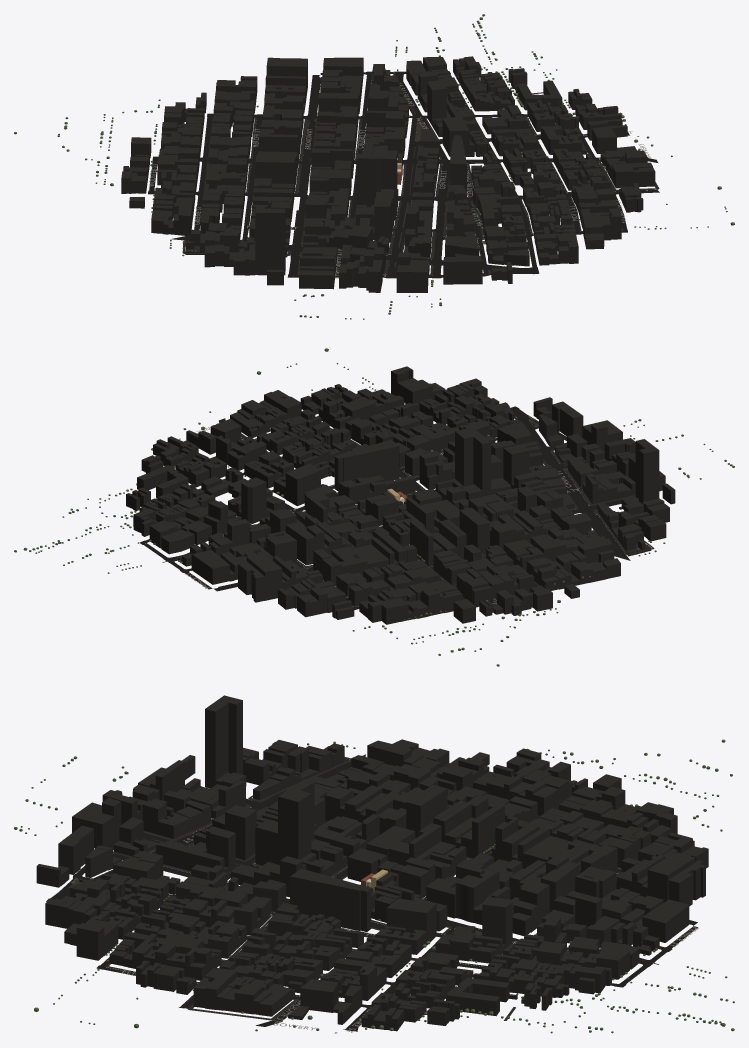
The model's file is lafayette_178.glb.
The picture shows the model from 3 angles, top to bottom: view 1: azimuth 30°, elevation 25°; view 2: azimuth 150°, elevation 25°; view 3: azimuth 270°, elevation 25°; orthographic projection. The views are drawn at different scales.
Parts seen in each view (by area): view 1: SOHO_MASSING, ROADBED, SIDEWALK, TREES; view 2: SOHO_MASSING, ROADBED, TREES, SIDEWALK; view 3: SOHO_MASSING, ROADBED, TREES, SIDEWALK.
Part boxes in pixels (<box>): SOHO_MASSING: <box>121,56,655,292</box>; ROADBED: <box>148,71,659,278</box>; SIDEWALK: <box>182,92,659,275</box>; TREES: <box>14,14,734,319</box>; SOHO_MASSING: <box>126,366,675,624</box>; ROADBED: <box>140,406,635,609</box>; TREES: <box>14,348,734,666</box>; SIDEWALK: <box>131,427,654,606</box>; SOHO_MASSING: <box>36,695,708,1031</box>; ROADBED: <box>46,754,698,1031</box>; TREES: <box>14,739,734,1033</box>; SIDEWALK: <box>105,757,637,1033</box>.
Size of the model in its own units: 845 by 110 by 885.
